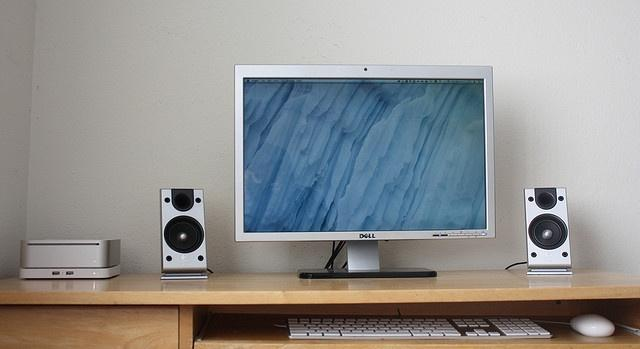AIO PC-Monitor-TV: (233, 64, 496, 240)
